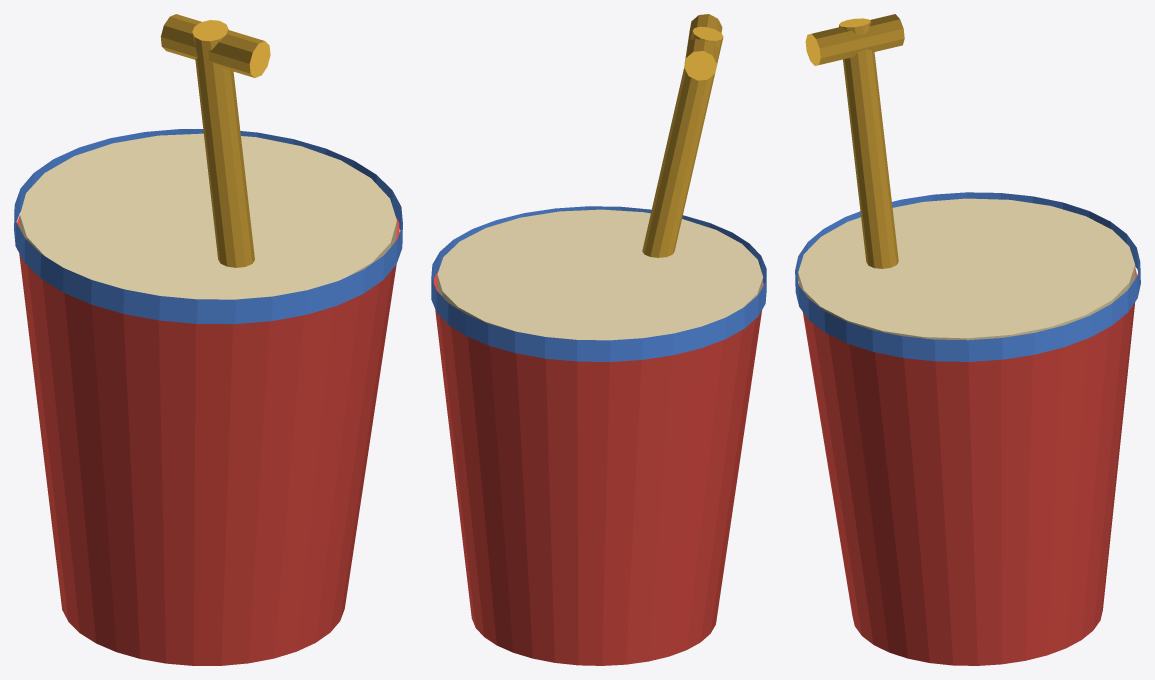
The model's file is BaldePlaya.glb.
3 renders of one model, left to right at view 1: azimuth 30°, elevation 25°; view 2: azimuth 150°, elevation 25°; view 3: azimuth 270°, elevation 25°, orthographic. The views are drawn at different scales.
Parts seen in each view (by area): view 1: imagetostl_mesh0, imagetostl_mesh2, imagetostl_mesh1, imagetostl_mesh14, imagetostl_mesh15; view 2: imagetostl_mesh0, imagetostl_mesh2, imagetostl_mesh1, imagetostl_mesh14, imagetostl_mesh15; view 3: imagetostl_mesh0, imagetostl_mesh2, imagetostl_mesh1, imagetostl_mesh14, imagetostl_mesh15.
Part boxes in pixels (bbox=[...]): imagetostl_mesh0: bbox=[17, 215, 399, 665]; imagetostl_mesh2: bbox=[19, 133, 396, 299]; imagetostl_mesh1: bbox=[14, 129, 402, 324]; imagetostl_mesh14: bbox=[192, 20, 254, 267]; imagetostl_mesh15: bbox=[161, 14, 270, 77]; imagetostl_mesh0: bbox=[433, 270, 763, 665]; imagetostl_mesh2: bbox=[437, 209, 763, 340]; imagetostl_mesh1: bbox=[431, 206, 766, 361]; imagetostl_mesh14: bbox=[642, 26, 723, 257]; imagetostl_mesh15: bbox=[684, 14, 722, 80]; imagetostl_mesh0: bbox=[803, 268, 1137, 665]; imagetostl_mesh2: bbox=[798, 198, 1135, 340]; imagetostl_mesh1: bbox=[795, 192, 1140, 361]; imagetostl_mesh14: bbox=[839, 18, 898, 268]; imagetostl_mesh15: bbox=[805, 14, 904, 65].
Size of the model in its own units: 1.31 by 2.41 by 1.32.
